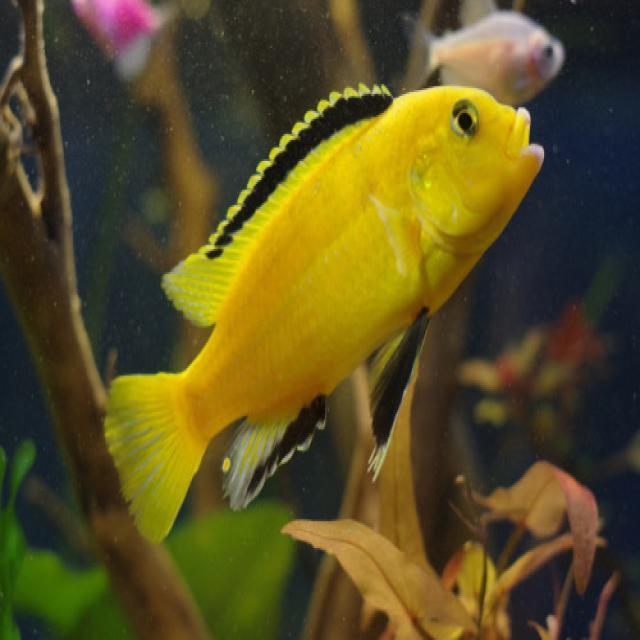YellowCichlid: (100, 72, 549, 540)
